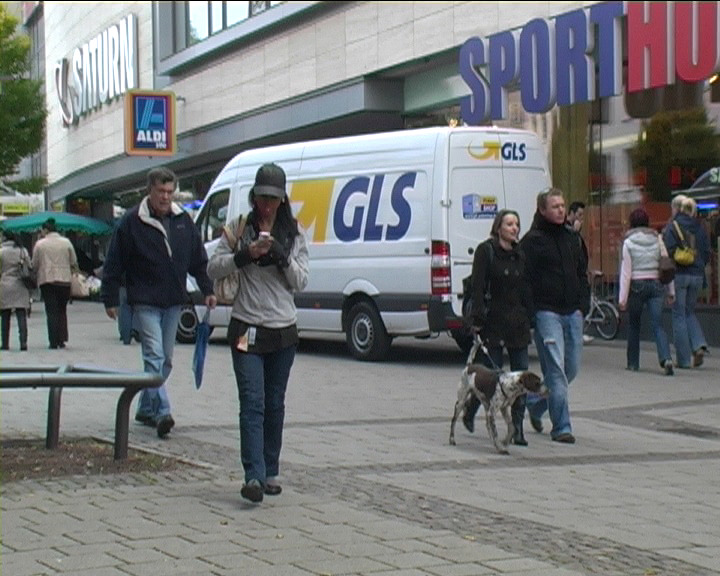undeflect: (236, 168, 301, 259), (523, 186, 589, 263)
